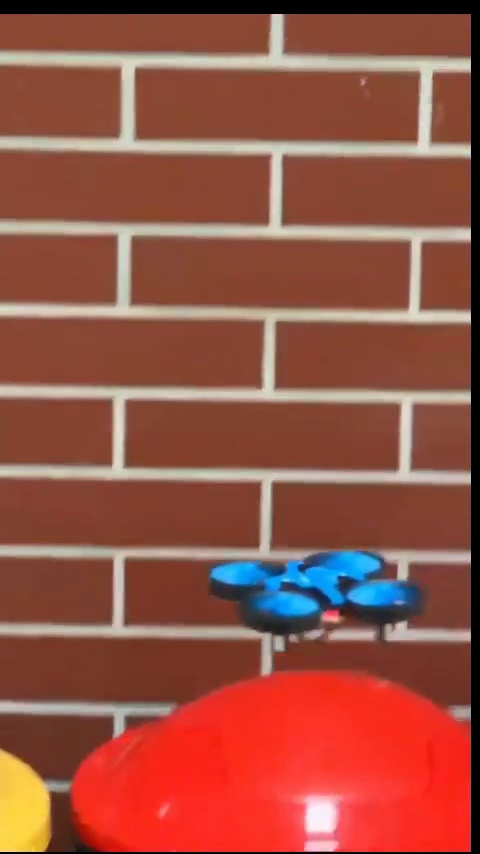drone: (207, 553, 419, 647)
